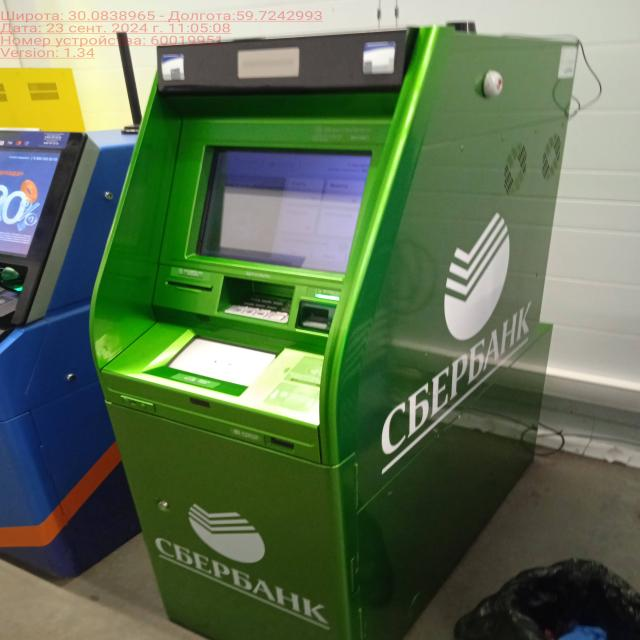bank: (92, 23, 583, 640)
